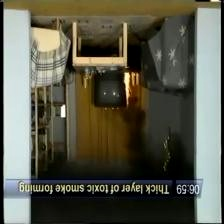fire: (121, 74, 143, 114)
